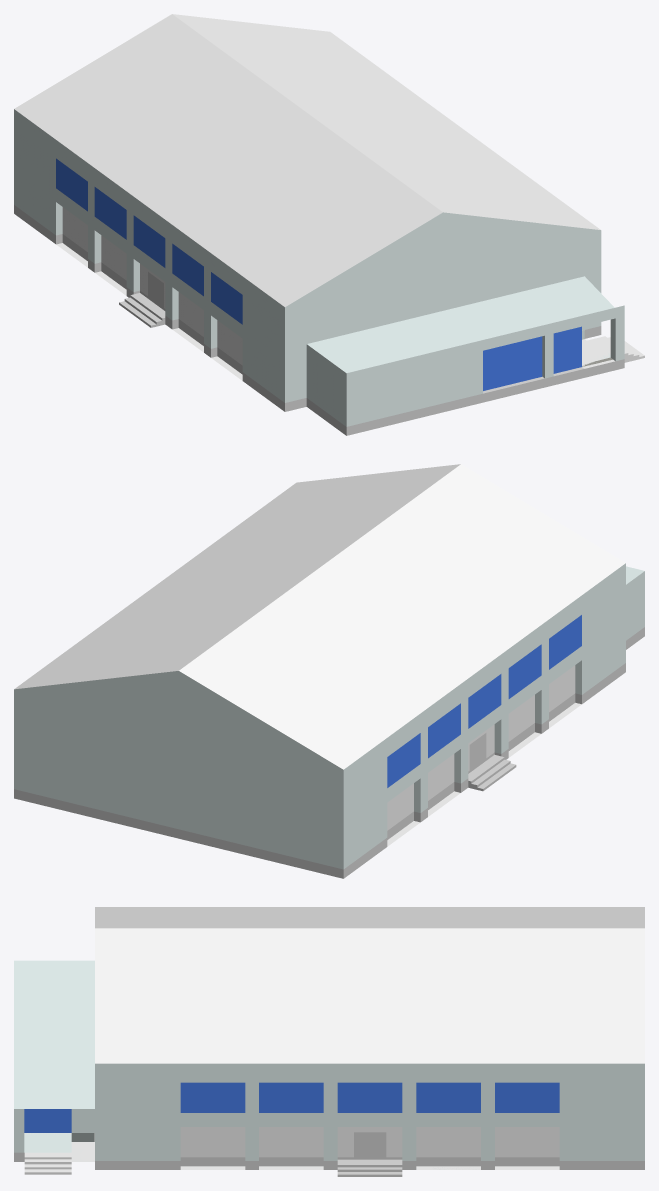
Rendered from taikukan_m.glb.
3 views of the same model, one above another, from view 1: azimuth 30°, elevation 25°; view 2: azimuth 150°, elevation 25°; view 3: azimuth 270°, elevation 25° (orthographic). The views are drawn at different scales.
Parts seen in each view (by area): view 1: 体育館; view 2: 体育館; view 3: 体育館.
Boxes of the visible parts, x1=… form: 体育館: x1=14, y1=14, x2=644, y2=435; 体育館: x1=14, y1=464, x2=644, y2=878; 体育館: x1=14, y1=907, x2=644, y2=1176.
Bounding box in the file's own units: 6.88 × 3.08 × 10.76.
1 material, 1 textured.
